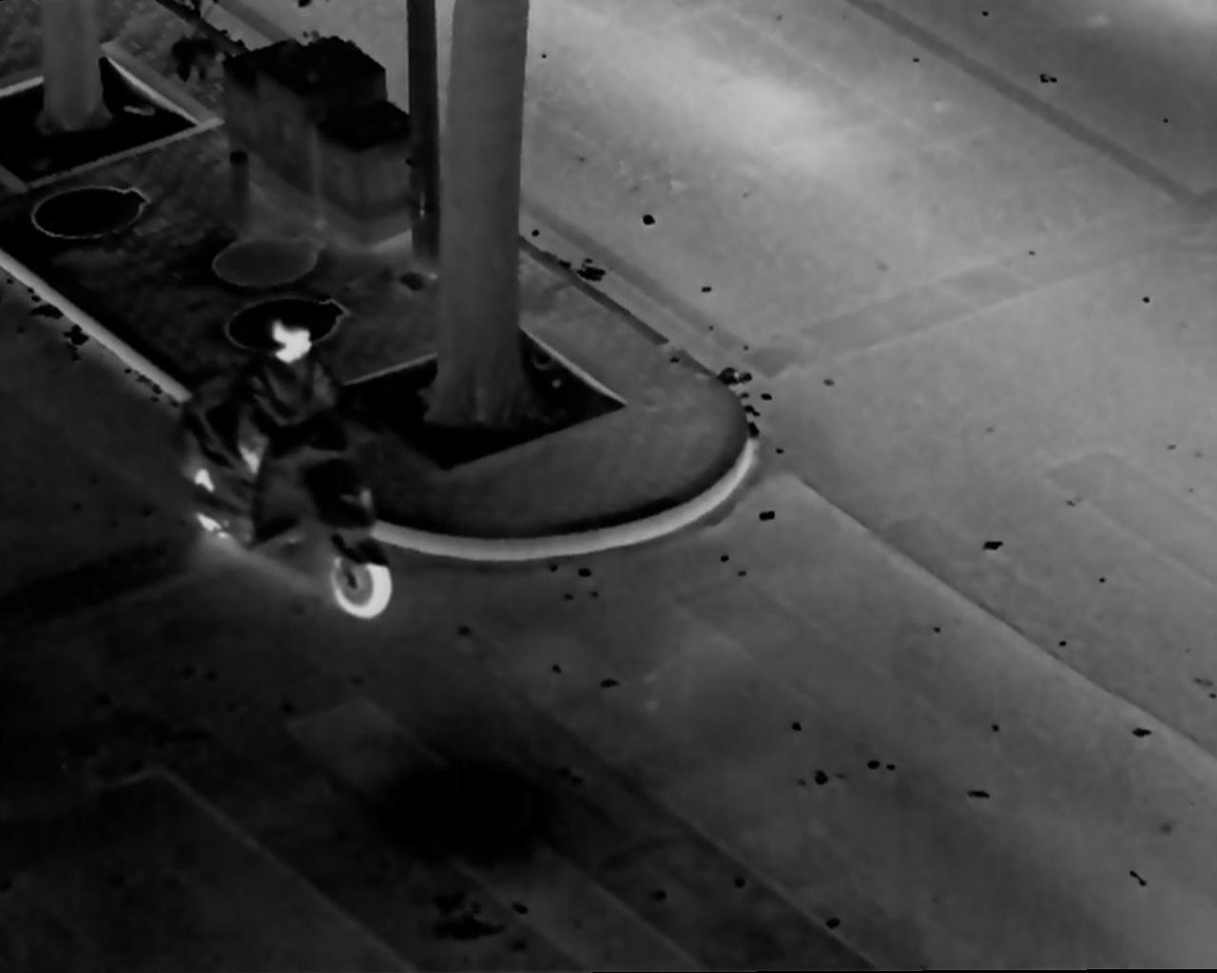person: (237, 304, 344, 558)
